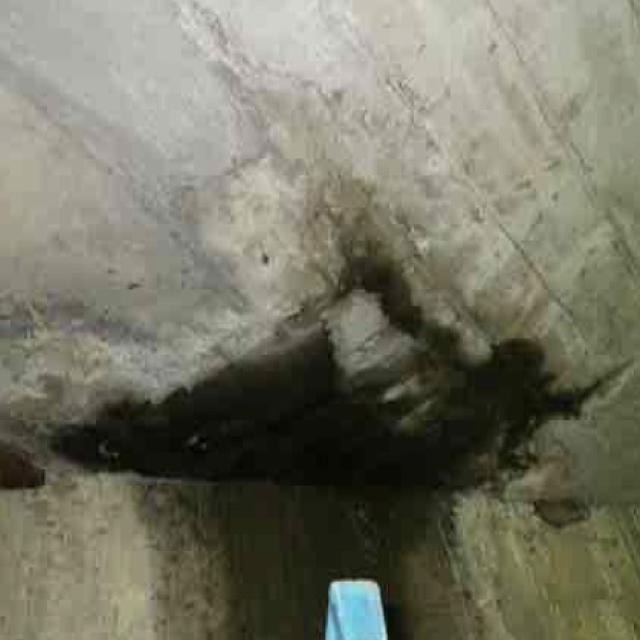leakage: (79, 236, 552, 591)
